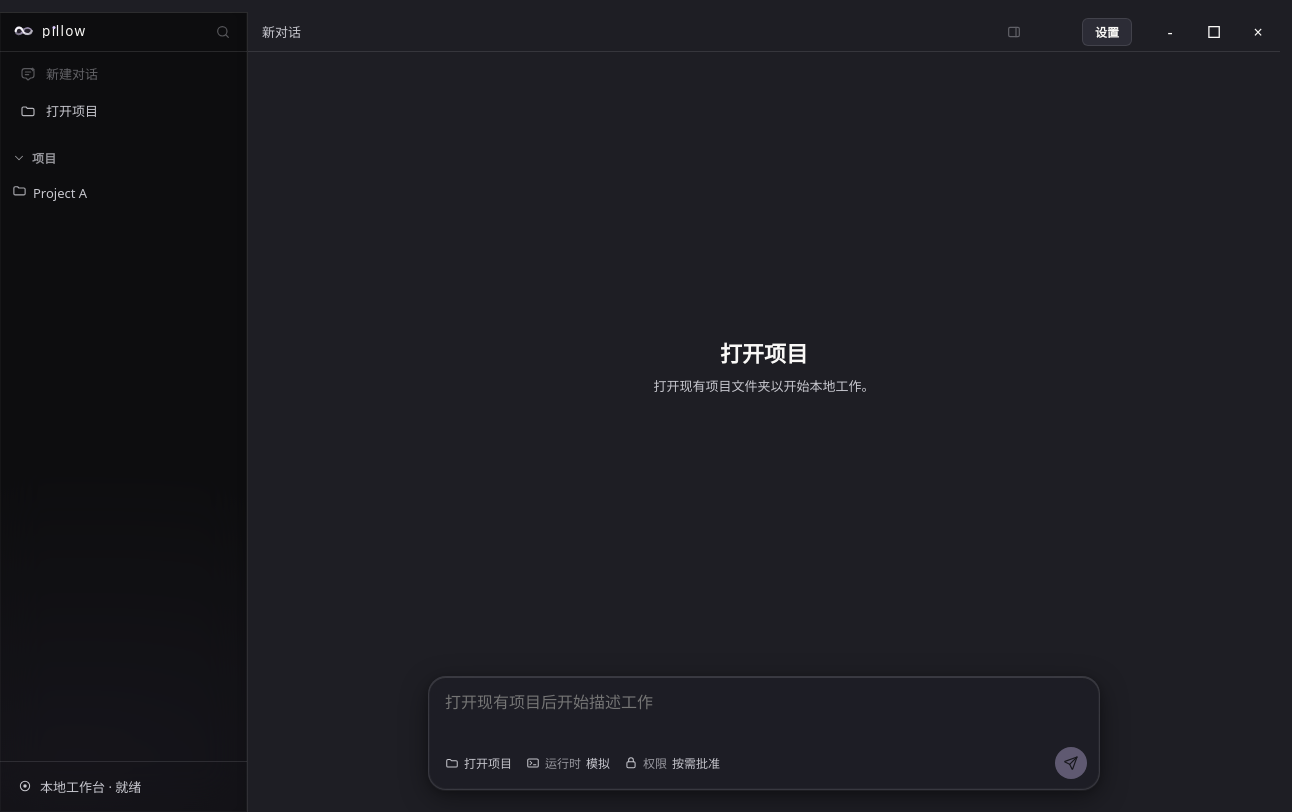
Test: conversation workbench UI › recovers draft and surfaces failure without a successful local message
This screenshot has width=1292, height=812.
Click the button "Project A" at (124, 192), box [4,176,243,209]
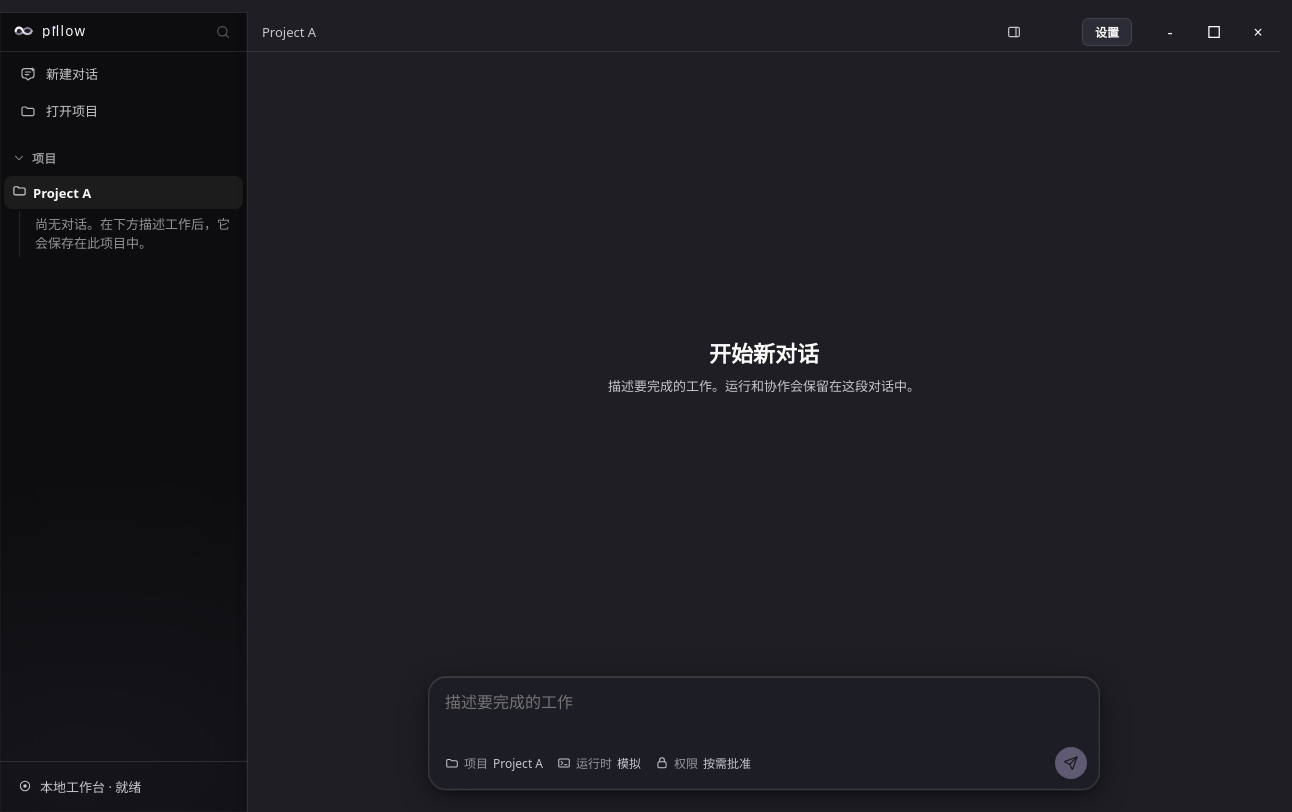
Click the button "新建对话" at (124, 74), box [10,56,237,91]
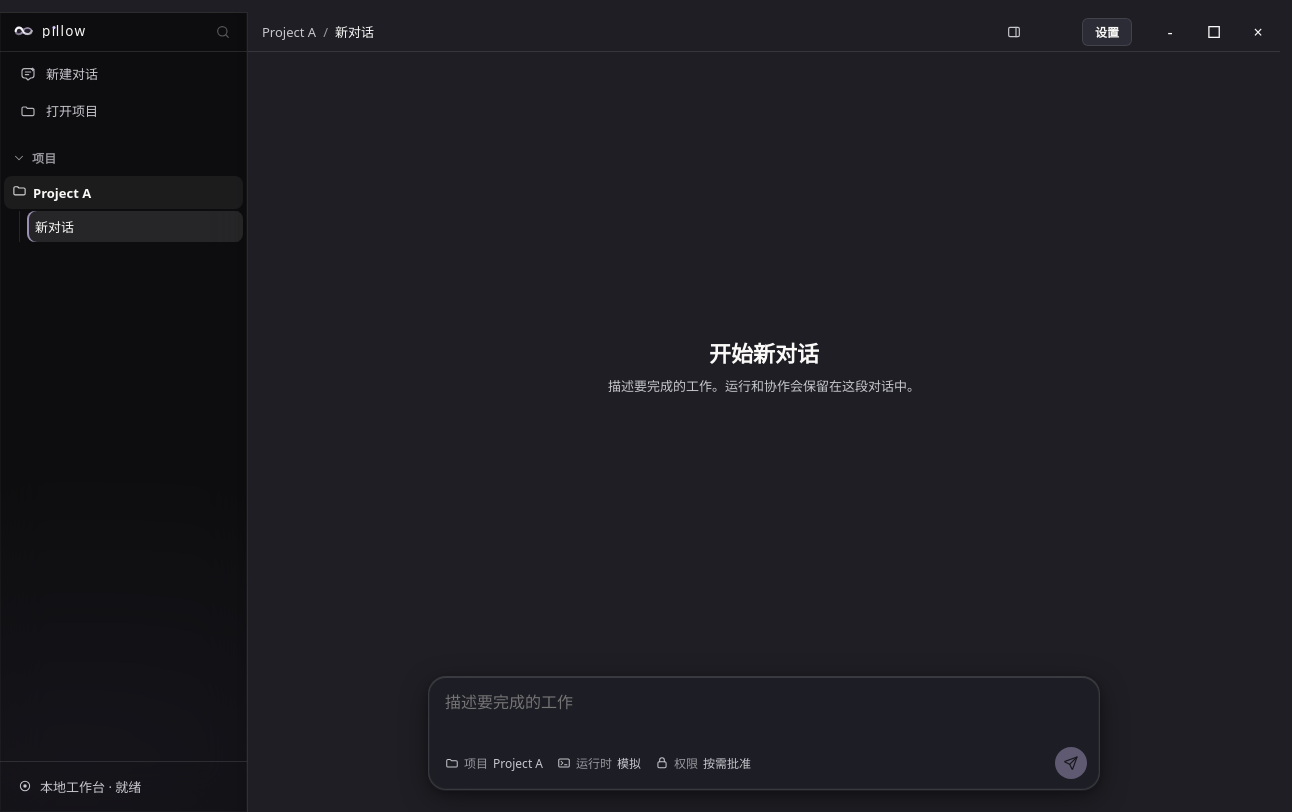
Type "这会失败" into the text box named "工作请求" at (764, 713), box [441,687,1087,739]
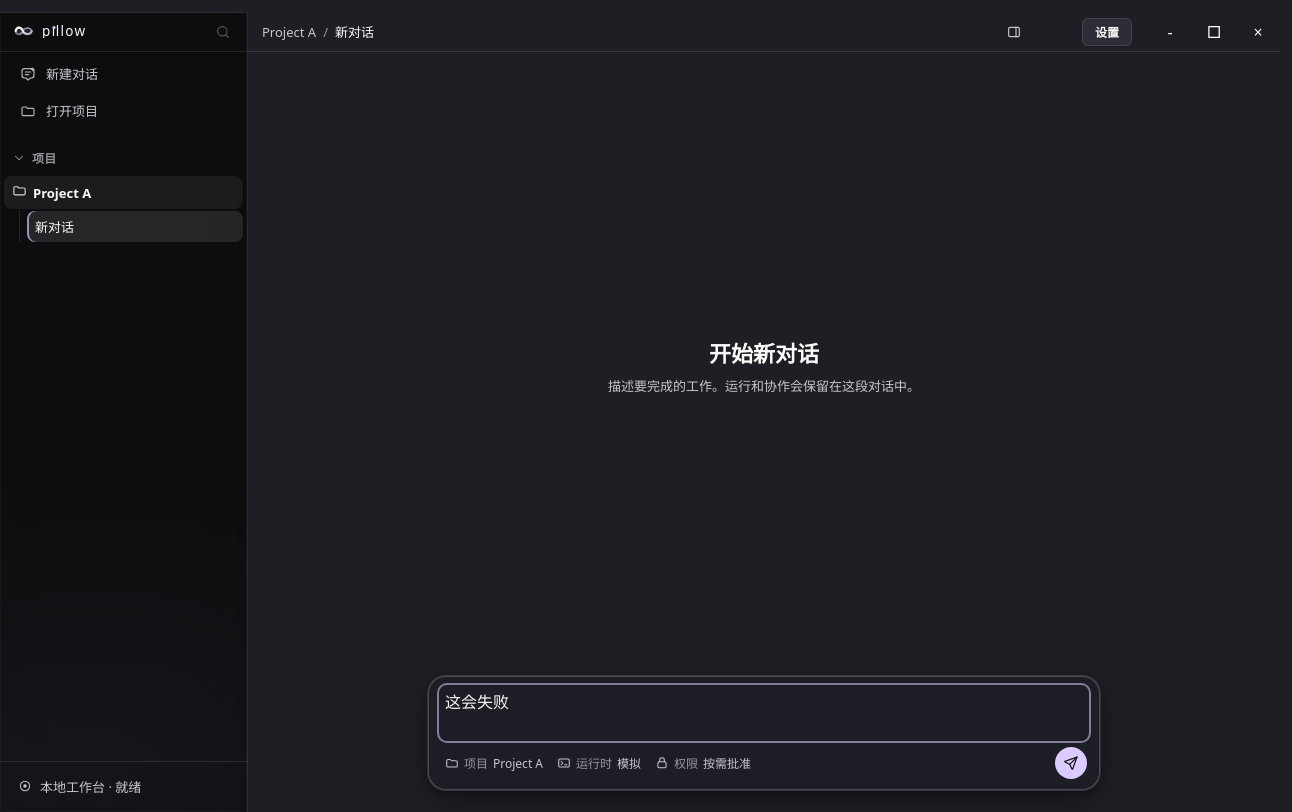
Click the button with test id "composer-send" at (1071, 763), box [1055,747,1087,779]
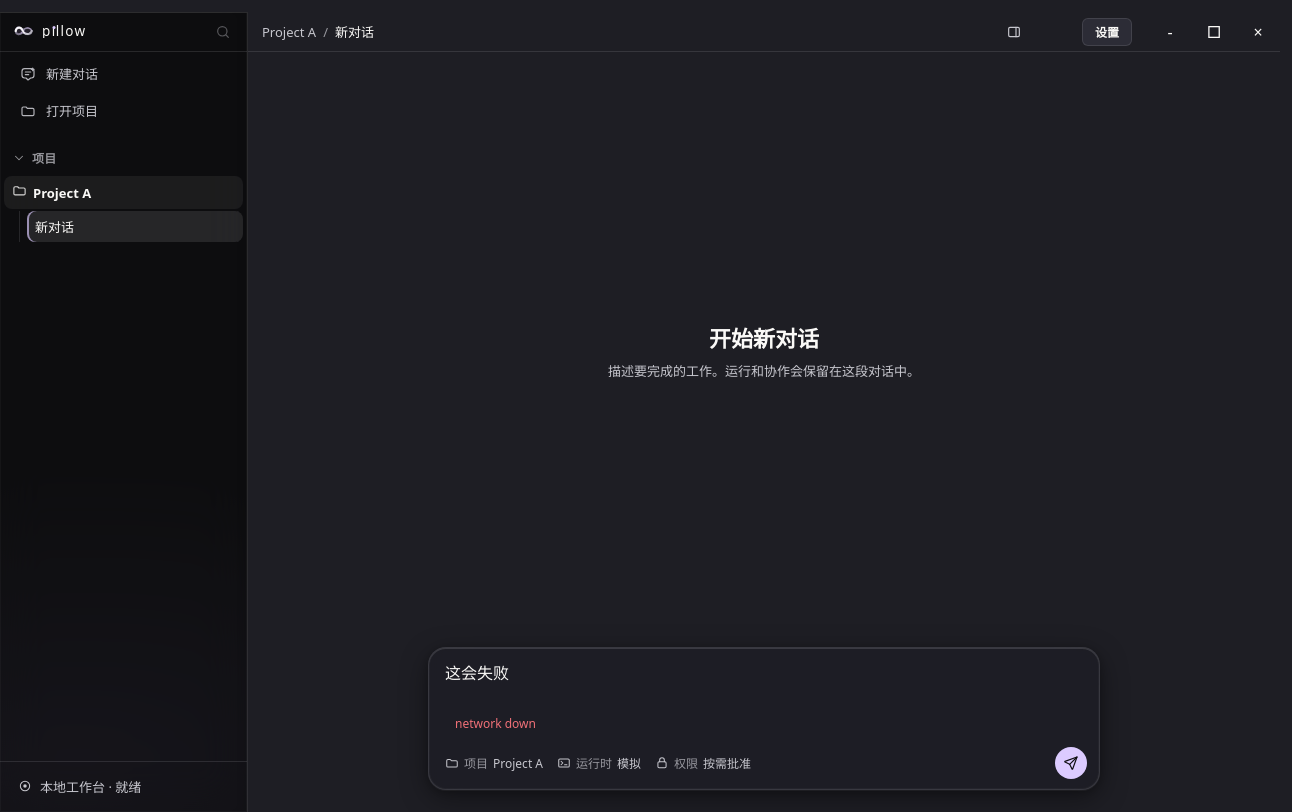
Expected: the message with test id "composer-send-error" reads "network down", [455,715,536,732]
